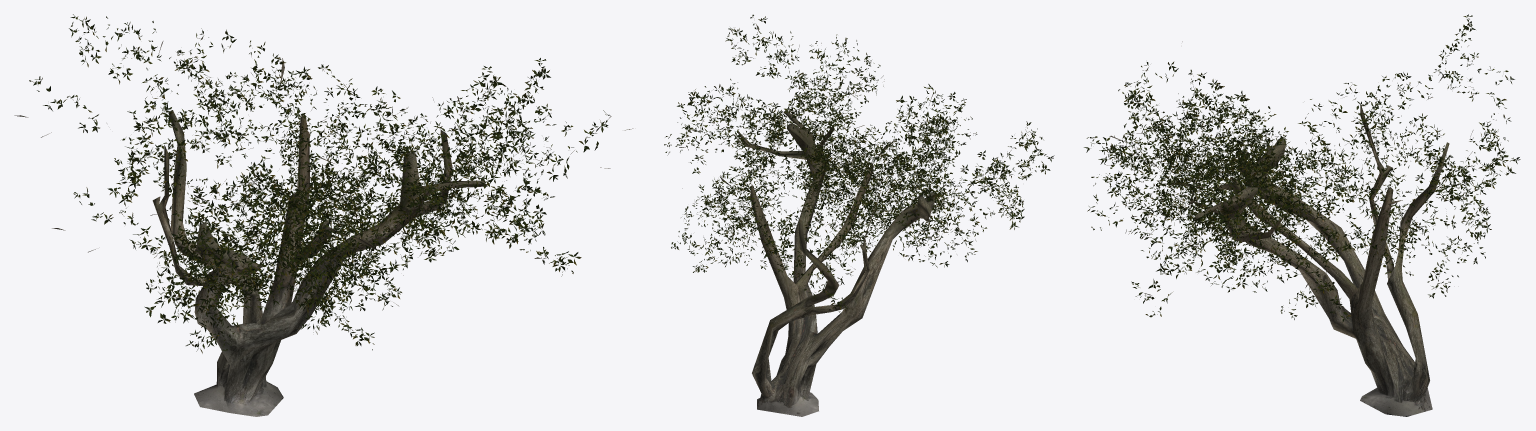
File: island_tree_02-near.glb
The picture shows the model from 3 angles, left to right: view 1: azimuth 30°, elevation 25°; view 2: azimuth 150°, elevation 25°; view 3: azimuth 270°, elevation 25°; orthographic projection. The views are drawn at different scales.
Visible parts, largest first — view 1: Production_island_tree_02; view 2: Production_island_tree_02; view 3: Production_island_tree_02.
Boxes of the visible parts, x1=… form: Production_island_tree_02: x1=14, y1=14, x2=633, y2=416; Production_island_tree_02: x1=664, y1=14, x2=1054, y2=416; Production_island_tree_02: x1=1084, y1=14, x2=1520, y2=416.
Bounding box in the file's own units: 4.21 × 3.4 × 4.07.
3 materials, 3 textured.
